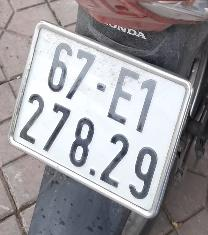1: (127, 70, 165, 139)
2: (95, 125, 137, 194), (16, 90, 50, 151)
6: (41, 36, 77, 98)
7: (62, 44, 102, 108), (37, 96, 76, 158)
8: (62, 108, 102, 174)
9: (125, 136, 165, 208)
E: (103, 60, 143, 132)
